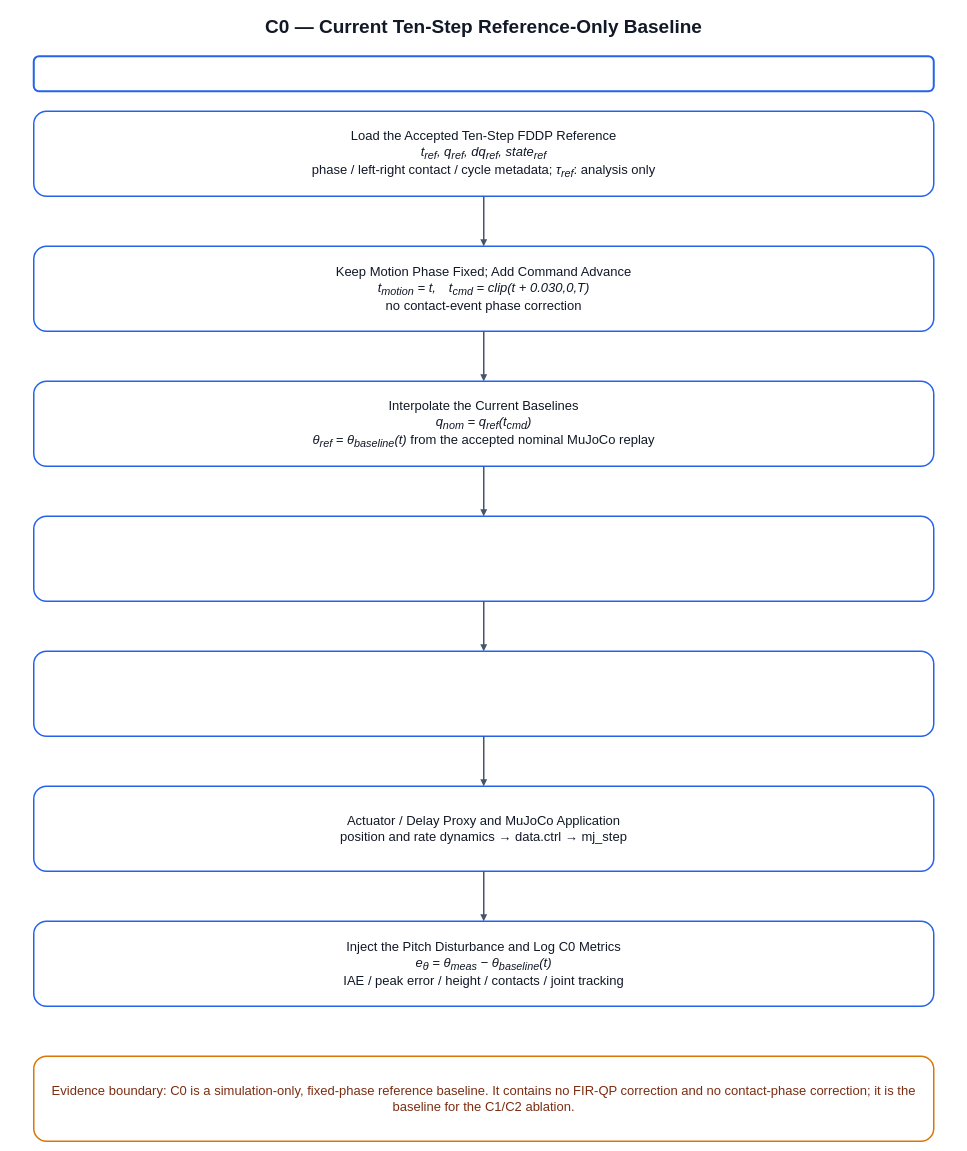
The diagram is 967 pixels wide and 1151 high, and some of its shapes have lost their labels. Here are the shapes that lost their labels. From the top down, the centre of each, then its label:
point (483, 73): Fixed-Phase Ten-Step Reference Replay
point (483, 558): Apply No Feedback Correction α k = 0, Δq k = 0
point (483, 693): Form the Safe Position Command q raw = q nom q cmd = SafetyLimiter(q raw )
